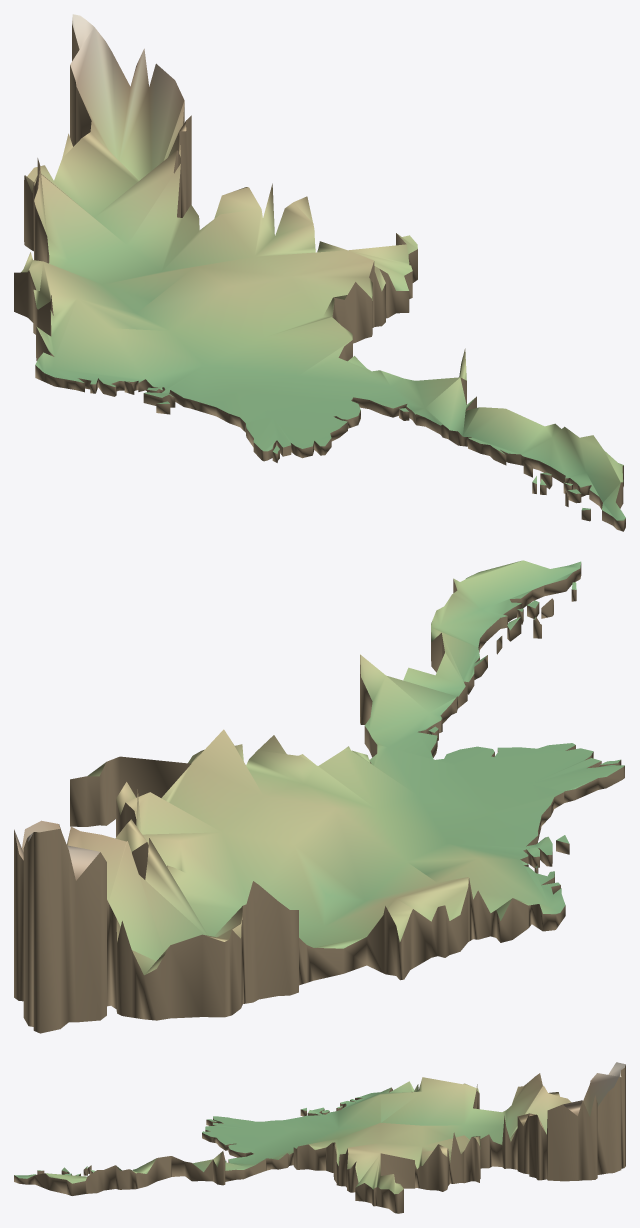
Rendered from MMR.glb.
3 renders of one model, top to bottom at view 1: azimuth 30°, elevation 25°; view 2: azimuth 150°, elevation 25°; view 3: azimuth 270°, elevation 25°, orthographic. The views are drawn at different scales.
Parts seen in each view (by area): view 1: MMR; view 2: MMR; view 3: MMR.
Part boxes in pixels (<box>): MMR: <box>14,14,625,531</box>; MMR: <box>14,560,624,1033</box>; MMR: <box>14,1062,625,1213</box>.
Size of the model in its own units: 0.8331 by 0.338 by 1.84.
